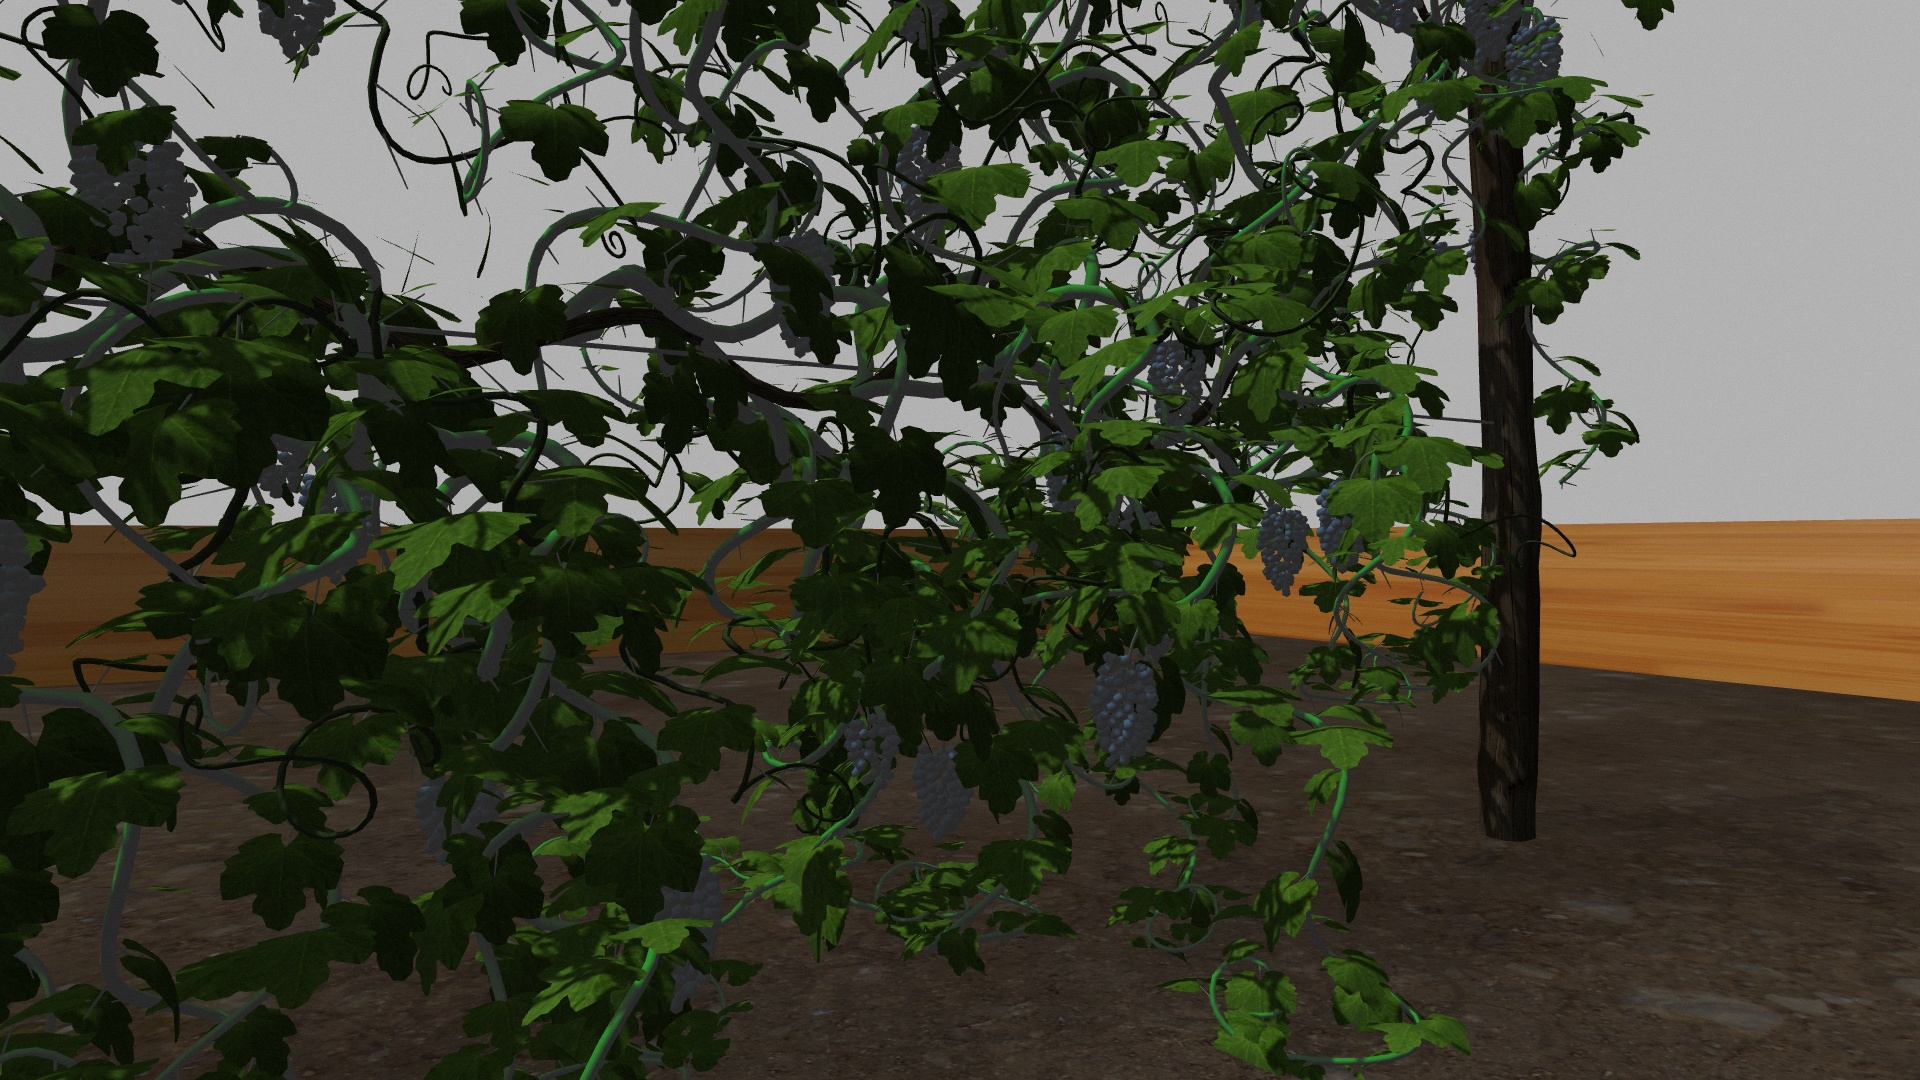grape: (65, 136, 200, 270), (647, 855, 727, 1013), (1087, 649, 1160, 770), (411, 777, 501, 865), (911, 745, 975, 840), (1149, 342, 1209, 429), (1251, 508, 1307, 593), (840, 713, 901, 783), (1315, 488, 1362, 574), (1507, 18, 1565, 88)
